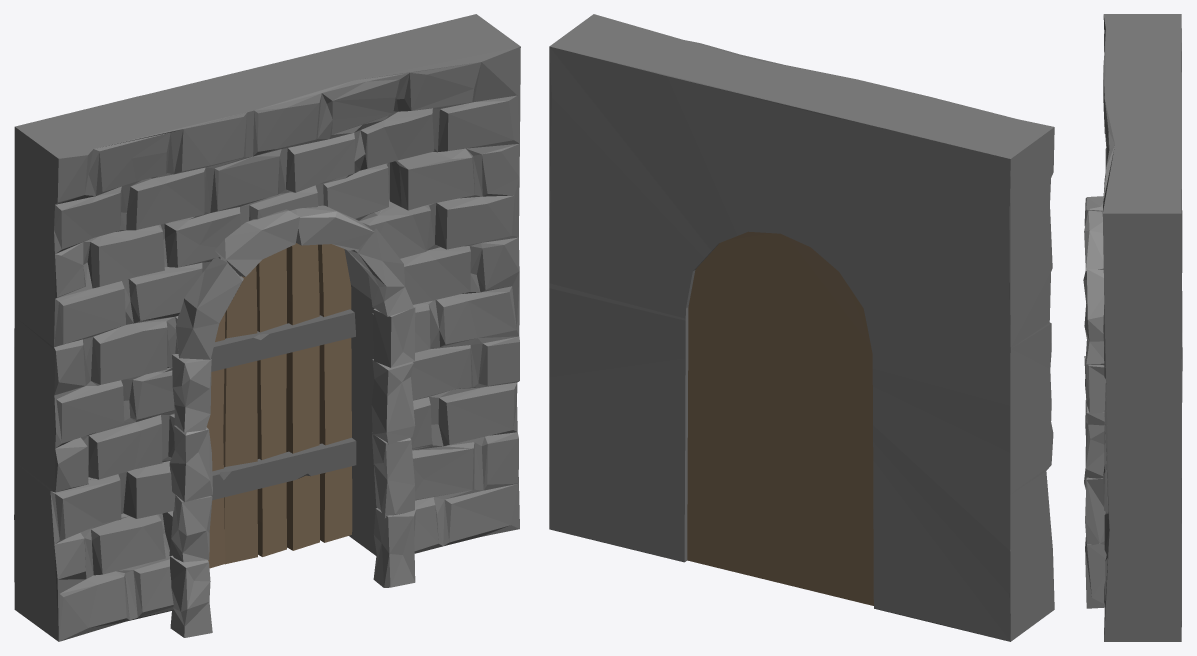
File: modular_wall_3x3m_door_b.FBX
3 renders of one model, left to right at view 1: azimuth 30°, elevation 25°; view 2: azimuth 150°, elevation 25°; view 3: azimuth 270°, elevation 25°, orthographic. The views are drawn at different scales.
Parts seen in each view (by area): view 1: modular_wall_3x3m_door_b; view 2: modular_wall_3x3m_door_b; view 3: modular_wall_3x3m_door_b.
Part boxes in pixels (x1=…): modular_wall_3x3m_door_b: x1=14, y1=14, x2=520, y2=641; modular_wall_3x3m_door_b: x1=549, y1=14, x2=1054, y2=641; modular_wall_3x3m_door_b: x1=1083, y1=14, x2=1182, y2=641.
Size of the model in its own units: 3 by 3.12 by 0.6299.
